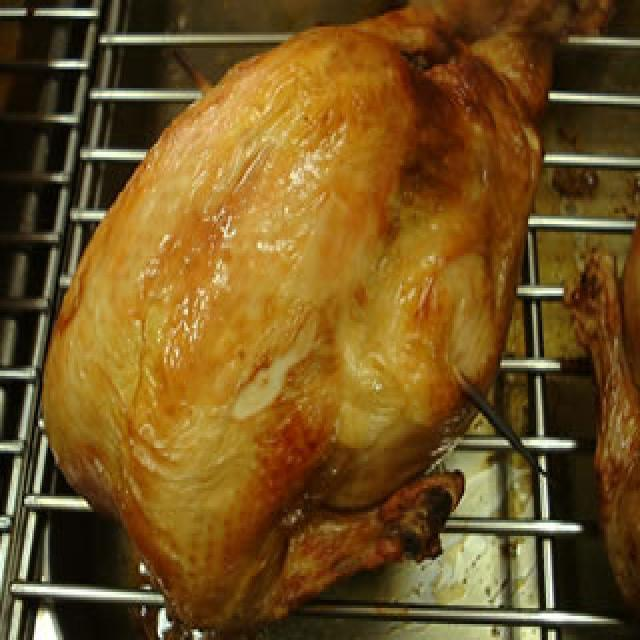Chicken: (36, 0, 556, 640)
